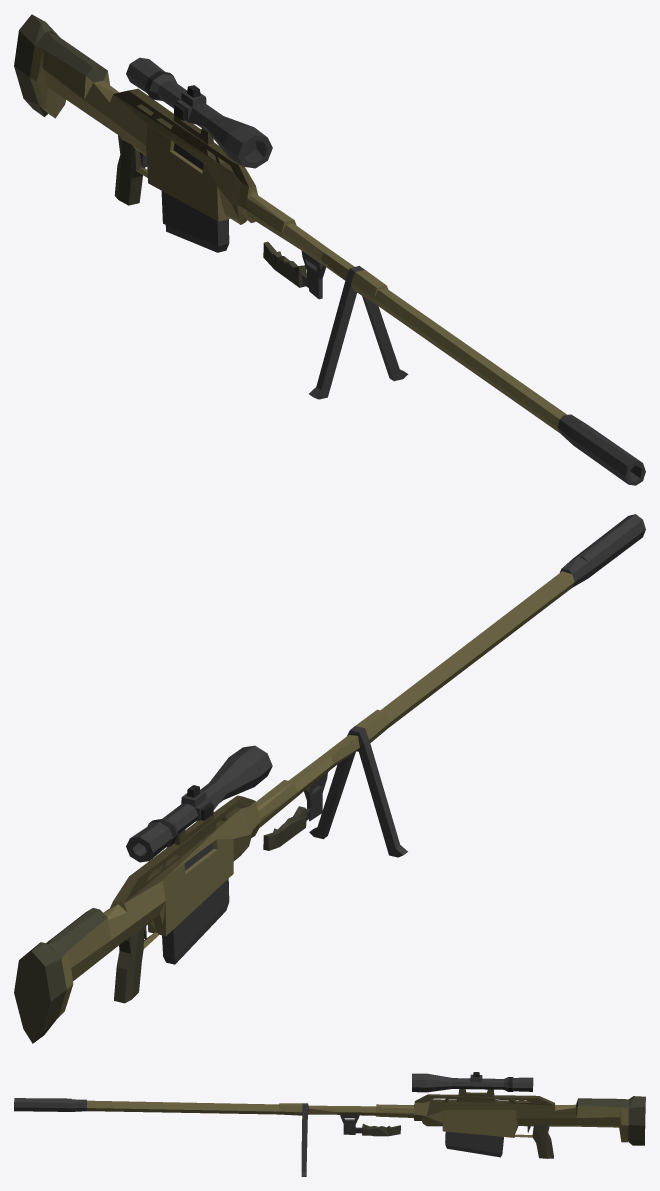
The model's file is Lvl4_RS_Gun_Model.fbx.
The picture shows the model from 3 angles, top to bottom: view 1: azimuth 30°, elevation 25°; view 2: azimuth 150°, elevation 25°; view 3: azimuth 270°, elevation 25°; orthographic projection. The views are drawn at different scales.
Visible parts, largest first — view 1: Circle.003; view 2: Circle.003; view 3: Circle.003.
Boxes of the visible parts, x1,y1,x2,y2 form: Circle.003: (14,14,645,485); Circle.003: (14,514,645,1043); Circle.003: (14,1072,645,1176).
Bounding box in the file's own units: 29.95 × 53.92 × 330.
